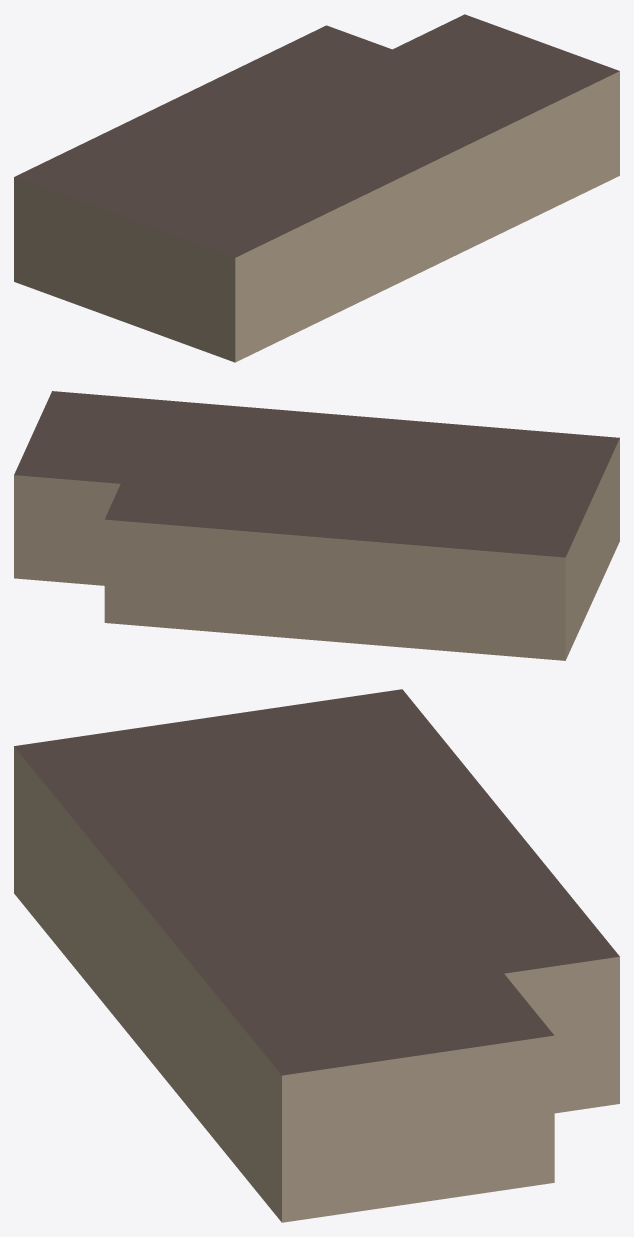
The picture shows the model from 3 angles, top to bottom: view 1: azimuth 30°, elevation 25°; view 2: azimuth 150°, elevation 25°; view 3: azimuth 270°, elevation 25°; orthographic projection. The views are drawn at different scales.
Visible parts, largest first — view 1: HP-w372180508; view 2: HP-w372180508; view 3: HP-w372180508.
Boxes of the visible parts, box(x1,y1,x2,y2) form: HP-w372180508: box(14, 14, 619, 362); HP-w372180508: box(14, 391, 619, 660); HP-w372180508: box(14, 689, 619, 1222).
Bounding box in the file's own units: 50.65 × 9 × 33.57.
